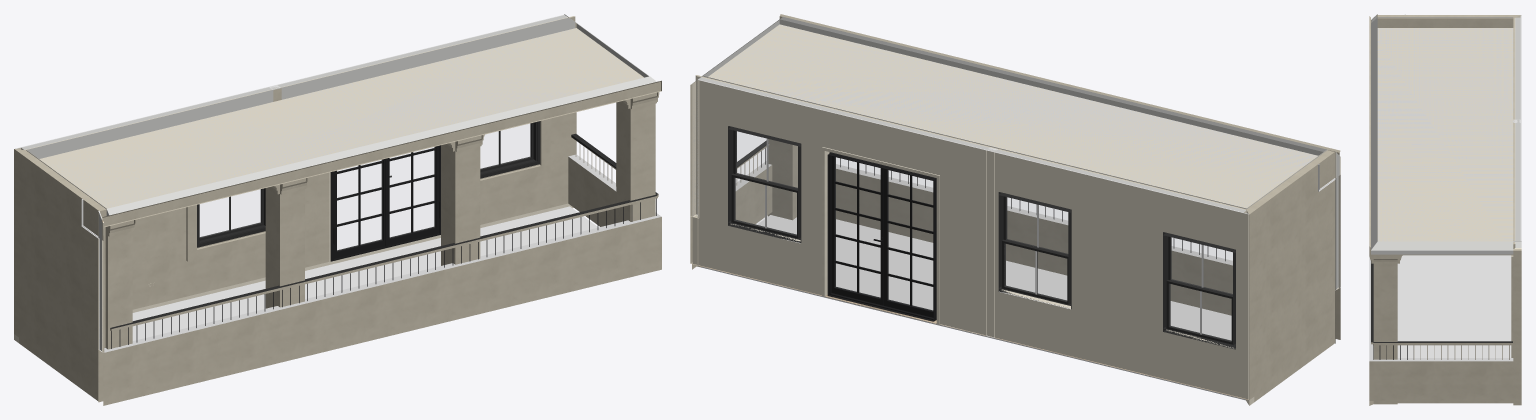
File: front-balcony-ad070eaa6cdb.glb
3 renders of one model, left to right at view 1: azimuth 30°, elevation 25°; view 2: azimuth 150°, elevation 25°; view 3: azimuth 270°, elevation 25°, orthographic. The views are drawn at different scales.
Parts seen in each view (by area): view 1: front-balcony-0ac23dde8d2f7c54, front-balcony-b39baa29700ae605, front-balcony-f6a7cfeba332478b, front-balcony-62353aa10fc57f23, front-balcony-b0ade14315e4f1c3, front-balcony-dbd60ee5c3733ed6, front-balcony-24022e0f0167e9d7, front-balcony-42fce09358828e49, front-balcony-d70d42a253f78e60, front-balcony-f0f007964d256d2c, front-balcony-771be2dfa886178e, front-balcony-41597b955207c1bc (+9 smaller); view 2: front-balcony-b0ade14315e4f1c3, front-balcony-0ac23dde8d2f7c54, front-balcony-f6a7cfeba332478b, front-balcony-62353aa10fc57f23, front-balcony-b39baa29700ae605, front-balcony-dbd60ee5c3733ed6, front-balcony-e1735639a83d20d7, front-balcony-60f0db96f832035a, front-balcony-42fce09358828e49, front-balcony-b5cb73c07919def8, front-balcony-d70d42a253f78e60, front-balcony-06c58750f38c7b4f (+6 smaller); view 3: front-balcony-0ac23dde8d2f7c54, front-balcony-f6a7cfeba332478b, front-balcony-dbd60ee5c3733ed6, front-balcony-dc9de07e6ba3b47a, front-balcony-41597b955207c1bc, front-balcony-b0ade14315e4f1c3, front-balcony-62353aa10fc57f23, front-balcony-adb6f49a6d2cbec3, front-balcony-8ce6cdf114d83750, front-balcony-24022e0f0167e9d7, front-balcony-16d9002bc6318568, front-balcony-19165bb3a07bed8e (+3 smaller).
Part boxes in pixels (<box>): front-balcony-0ac23dde8d2f7c54: <box>26,18,656,215</box>; front-balcony-b39baa29700ae605: <box>98,216,661,405</box>; front-balcony-f6a7cfeba332478b: <box>45,29,641,207</box>; front-balcony-62353aa10fc57f23: <box>14,149,106,401</box>; front-balcony-b0ade14315e4f1c3: <box>15,15,575,309</box>; front-balcony-dbd60ee5c3733ed6: <box>132,206,597,340</box>; front-balcony-24022e0f0167e9d7: <box>102,80,661,227</box>; front-balcony-42fce09358828e49: <box>385,146,440,246</box>; front-balcony-d70d42a253f78e60: <box>333,159,385,258</box>; front-balcony-f0f007964d256d2c: <box>265,187,304,308</box>; front-balcony-771be2dfa886178e: <box>441,144,480,265</box>; front-balcony-41597b955207c1bc: <box>616,102,655,222</box>; front-balcony-b0ade14315e4f1c3: <box>692,75,1248,399</box>; front-balcony-0ac23dde8d2f7c54: <box>702,17,1327,209</box>; front-balcony-f6a7cfeba332478b: <box>710,24,1317,207</box>; front-balcony-62353aa10fc57f23: <box>1246,150,1334,405</box>; front-balcony-b39baa29700ae605: <box>836,164,1340,343</box>; front-balcony-dbd60ee5c3733ed6: <box>702,215,1245,400</box>; front-balcony-e1735639a83d20d7: <box>728,126,801,242</box>; front-balcony-60f0db96f832035a: <box>1163,232,1235,349</box>; front-balcony-42fce09358828e49: <box>831,156,883,305</box>; front-balcony-b5cb73c07919def8: <box>998,192,1071,308</box>; front-balcony-d70d42a253f78e60: <box>884,168,933,317</box>; front-balcony-06c58750f38c7b4f: <box>827,152,936,321</box>; front-balcony-0ac23dde8d2f7c54: <box>1371,17,1513,254</box>; front-balcony-f6a7cfeba332478b: <box>1371,28,1513,255</box>; front-balcony-dbd60ee5c3733ed6: <box>1397,255,1513,403</box>; front-balcony-dc9de07e6ba3b47a: <box>1369,358,1513,400</box>; front-balcony-41597b955207c1bc: <box>1373,264,1397,404</box>; front-balcony-b0ade14315e4f1c3: <box>1513,15,1521,400</box>; front-balcony-62353aa10fc57f23: <box>1377,15,1521,27</box>; front-balcony-adb6f49a6d2cbec3: <box>1513,249,1521,361</box>; front-balcony-8ce6cdf114d83750: <box>1373,341,1512,345</box>; front-balcony-24022e0f0167e9d7: <box>1369,16,1370,255</box>; front-balcony-16d9002bc6318568: <box>1514,361,1521,400</box>; front-balcony-19165bb3a07bed8e: <box>1511,255,1513,357</box>.
Size of the model in its own units: 9.14 by 3 by 2.55.
Materials: 19 (4 with a texture image).
